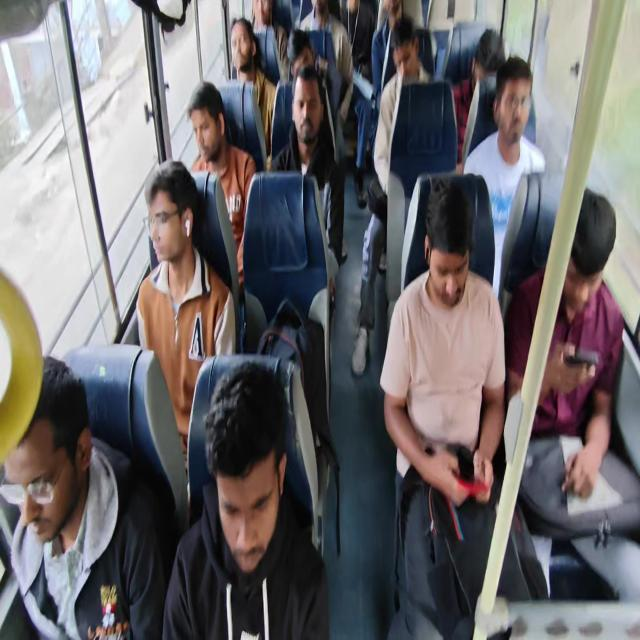person: (187, 393, 313, 640), (542, 171, 640, 430), (417, 177, 497, 430), (0, 375, 60, 640), (130, 156, 216, 306), (493, 51, 557, 199), (283, 70, 346, 182), (182, 74, 228, 172), (455, 13, 514, 79), (227, 18, 263, 100), (393, 18, 428, 92), (343, 0, 376, 58), (280, 20, 314, 72), (382, 0, 409, 34), (308, 0, 327, 29), (254, 0, 275, 26)
